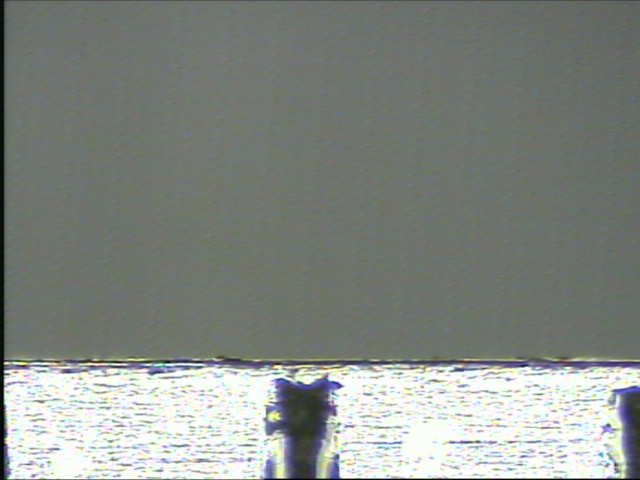line: (263, 372, 346, 477)
